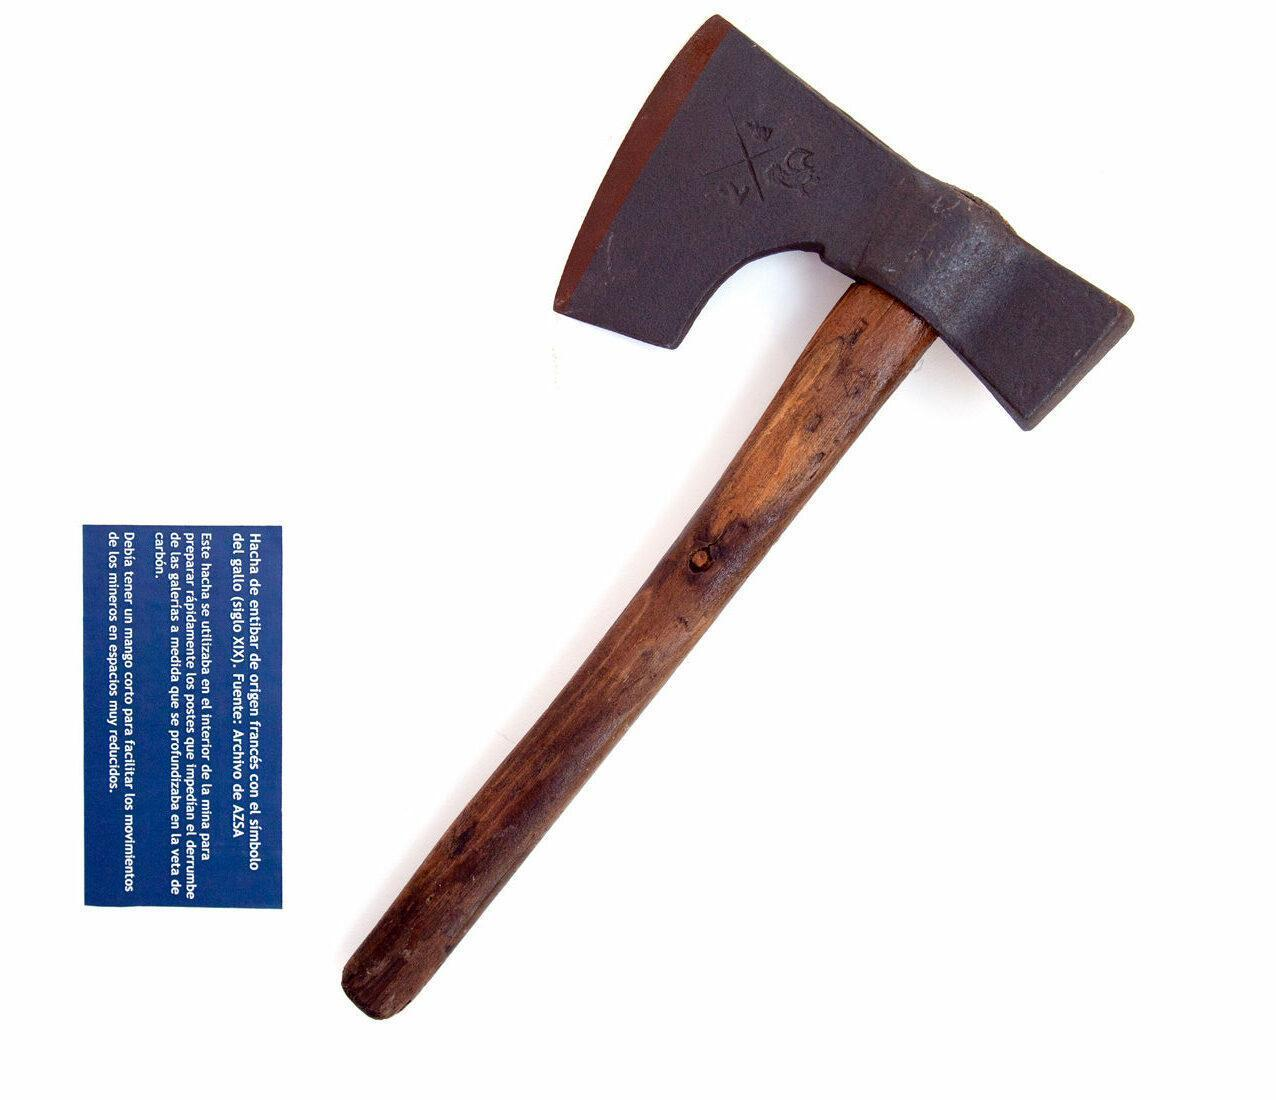machado: (343, 15, 1132, 1016)
